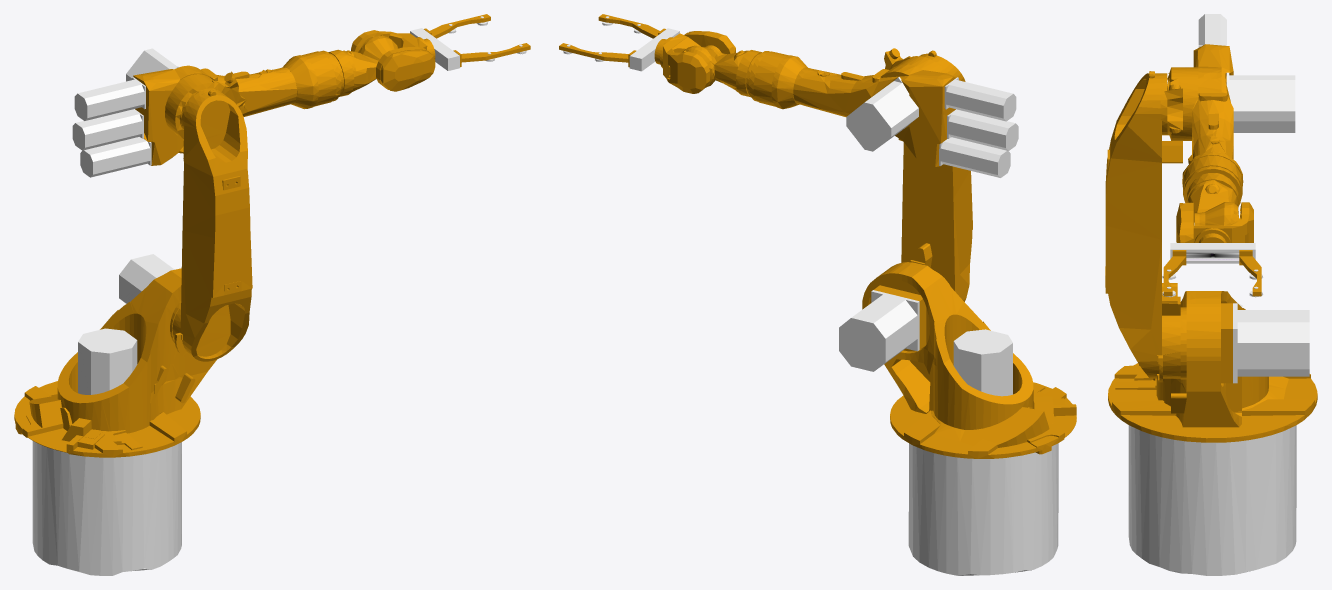
File: Roboter_5kV.dae
3 views of the same model, side by side, from view 1: azimuth 30°, elevation 25°; view 2: azimuth 150°, elevation 25°; view 3: azimuth 270°, elevation 25° (orthographic). The views are drawn at different scales.
Visible parts, largest first — view 1: r_Arm1, r_Arm2, Stand, r_Arm3, r_Motor_unten, r_Arm4, r_Arm5, r_Minimotor1, r_Minimotor2, r_Minimotor3, r_Motor_mitte, r_Motor_oben (+1 smaller); view 2: r_Arm1, Stand, r_Arm3, r_Arm2, r_Motor_mitte, r_Motor_unten, r_Arm4, r_Motor_oben, r_Arm5, r_Minimotor1, r_Minimotor2, r_Minimotor3 (+1 smaller); view 3: Stand, r_Arm2, r_Arm1, r_Arm3, r_Motor_mitte, r_Motor_oben, r_Arm4, r_Arm5, r_Greifer, r_Minimotor1, Arm_rechts, Arm_links.
Boxes of the visible parts, bbox=[...] form: r_Arm1: bbox=[14, 268, 216, 457]; r_Arm2: bbox=[172, 89, 252, 361]; Stand: bbox=[32, 441, 181, 575]; r_Arm3: bbox=[133, 55, 318, 165]; r_Motor_unten: bbox=[78, 328, 137, 394]; r_Arm4: bbox=[302, 35, 397, 106]; r_Arm5: bbox=[351, 30, 435, 91]; r_Minimotor1: bbox=[74, 77, 145, 120]; r_Minimotor2: bbox=[72, 109, 143, 150]; r_Minimotor3: bbox=[80, 137, 151, 177]; r_Motor_mitte: bbox=[119, 254, 174, 303]; r_Motor_oben: bbox=[126, 48, 178, 81]; r_Arm1: bbox=[862, 262, 1076, 458]; Stand: bbox=[908, 443, 1058, 575]; r_Arm3: bbox=[771, 48, 956, 166]; r_Arm2: bbox=[901, 50, 972, 301]; r_Motor_mitte: bbox=[839, 290, 919, 371]; r_Motor_unten: bbox=[953, 329, 1012, 396]; r_Arm4: bbox=[682, 45, 788, 106]; r_Motor_oben: bbox=[846, 77, 918, 151]; r_Arm5: bbox=[654, 31, 735, 93]; r_Minimotor1: bbox=[944, 77, 1016, 121]; r_Minimotor2: bbox=[947, 109, 1018, 150]; r_Minimotor3: bbox=[939, 137, 1010, 177]; Stand: bbox=[1128, 425, 1296, 575]; r_Arm2: bbox=[1105, 71, 1182, 382]; r_Arm1: bbox=[1108, 291, 1317, 442]; r_Arm3: bbox=[1164, 44, 1243, 186]; r_Motor_mitte: bbox=[1233, 303, 1309, 383]; r_Motor_oben: bbox=[1226, 72, 1295, 132]; r_Arm4: bbox=[1183, 155, 1242, 225]; r_Arm5: bbox=[1176, 202, 1253, 242]; r_Greifer: bbox=[1170, 243, 1255, 263]; r_Minimotor1: bbox=[1198, 14, 1226, 47]; Arm_rechts: bbox=[1163, 250, 1186, 296]; Arm_links: bbox=[1239, 250, 1261, 296].
Bounding box in the file's own units: 16.13 × 5.46 × 14.64.
